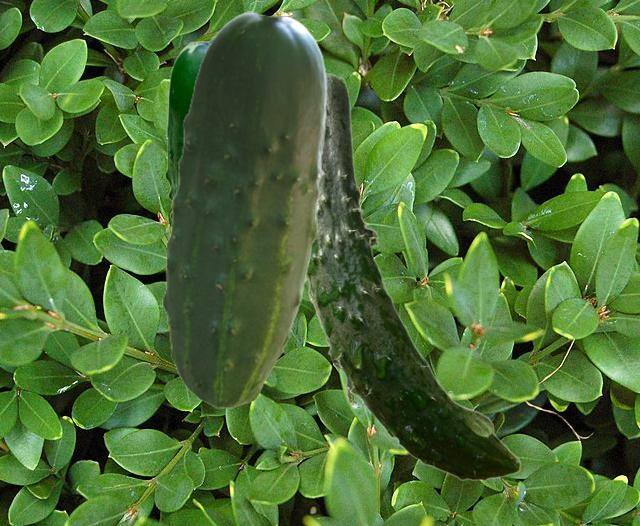cucumber: (305, 72, 520, 480), (162, 11, 326, 408), (164, 37, 212, 219)
